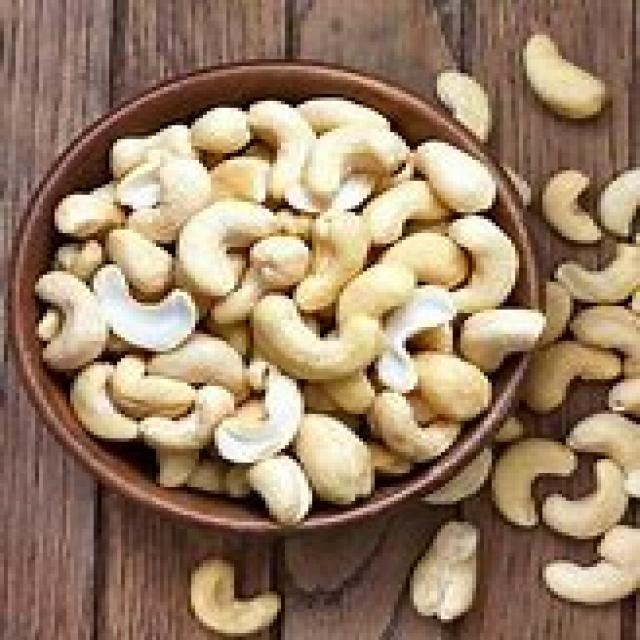Cashew: (364, 512, 500, 633), (508, 0, 617, 119), (264, 314, 373, 422), (160, 549, 287, 640), (176, 172, 247, 294), (540, 517, 636, 607), (44, 262, 108, 370), (533, 152, 599, 252), (558, 390, 640, 470), (412, 340, 502, 410), (243, 466, 321, 540), (425, 150, 497, 227), (315, 130, 418, 183), (297, 201, 348, 305), (264, 106, 321, 191), (115, 362, 191, 425), (233, 398, 312, 458), (549, 241, 640, 292), (152, 397, 228, 458), (497, 428, 558, 497), (596, 153, 640, 247), (577, 287, 640, 351), (67, 367, 123, 437), (197, 114, 264, 165), (35, 192, 114, 233), (357, 255, 405, 322), (117, 159, 178, 211), (375, 191, 423, 245), (601, 362, 640, 414)
